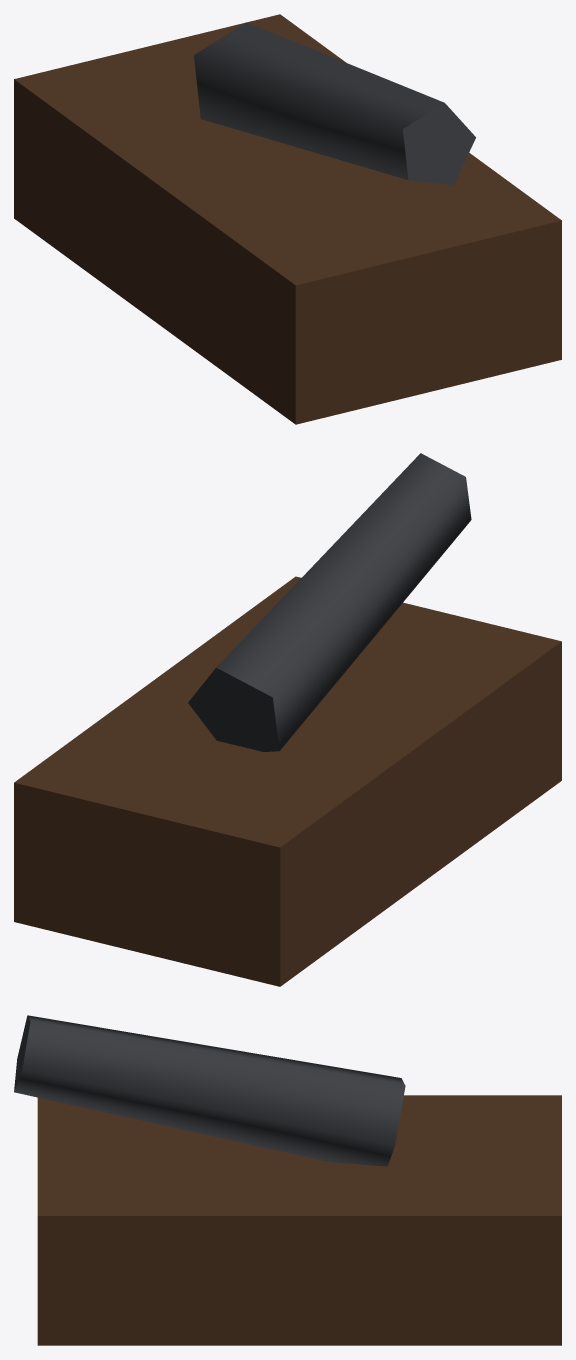
The model's file is unit_mil_gun_a03_lod1.glb.
The picture shows the model from 3 angles, top to bottom: view 1: azimuth 30°, elevation 25°; view 2: azimuth 150°, elevation 25°; view 3: azimuth 270°, elevation 25°; orthographic projection. The views are drawn at different scales.
Parts seen in each view (by area): view 1: body, barrel; view 2: body, barrel; view 3: body, barrel.
Boxes of the visible parts, x1,y1,x2,y2 form: body: (14, 14, 561, 424); barrel: (194, 22, 475, 185); body: (14, 576, 561, 986); barrel: (188, 453, 471, 751); body: (37, 1095, 561, 1345); barrel: (14, 1015, 405, 1166).
Size of the model in its own units: 1.2 by 1.25 by 2.3.
